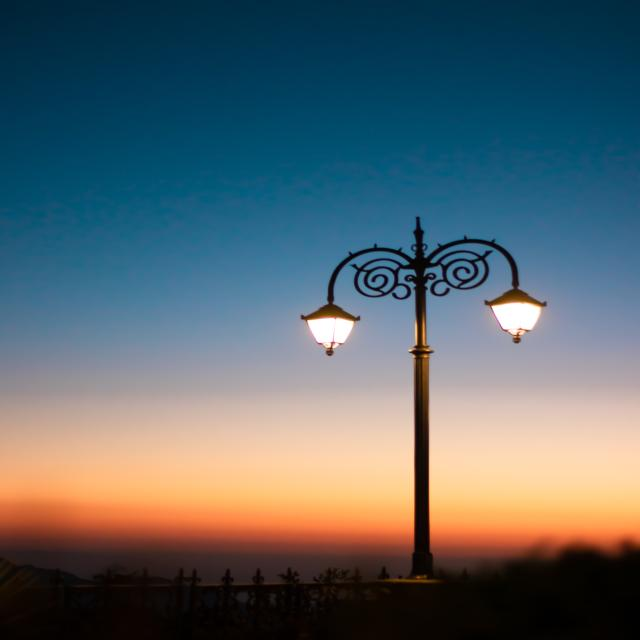Street Light: (303, 216, 550, 578)
